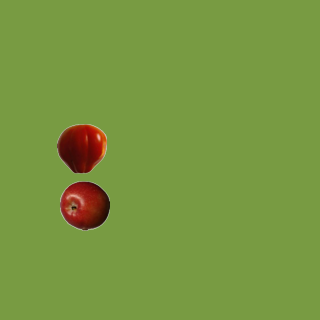Apple Braeburn: (59, 180, 109, 230)
Tomato 1: (56, 123, 106, 173)
